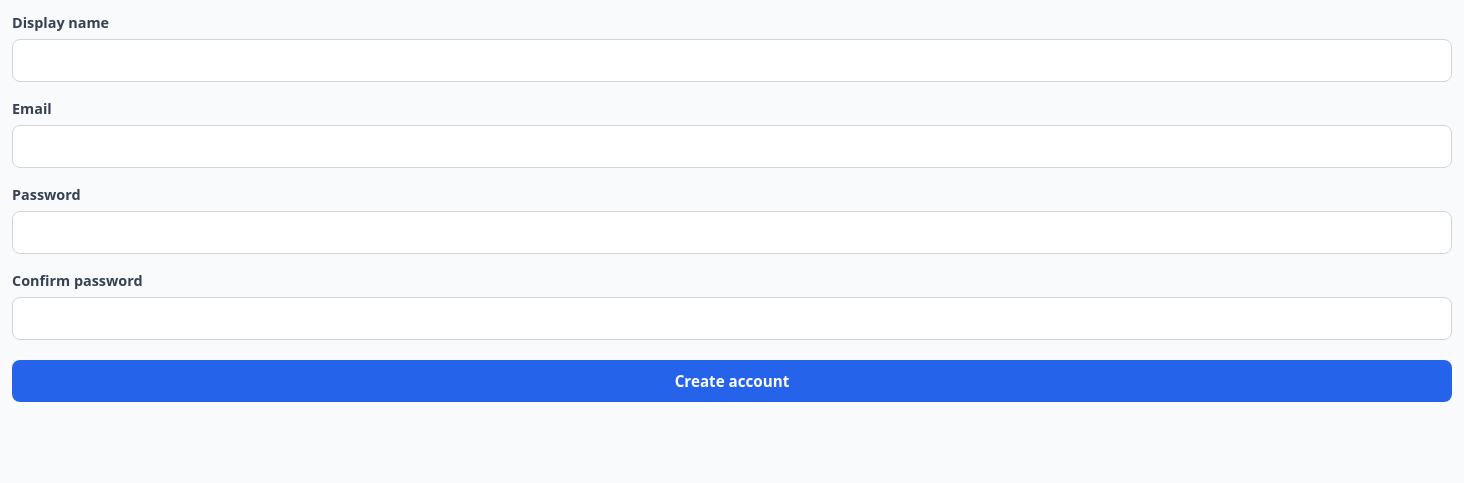
Test case: RegisterForm › renders server error alert when registration fails
Type "Maria" into the field labelled "Display name" at [732, 61], box [12,39,1452,82]
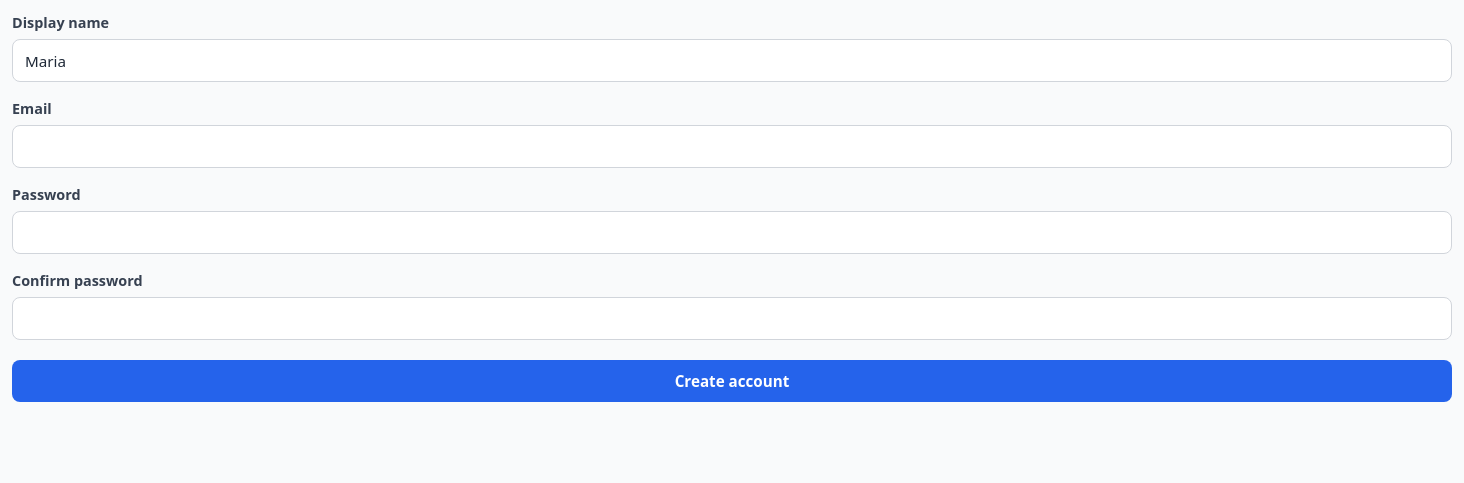
Type "maria@example.com" into the field labelled "Email" at [732, 147], box [12,125,1452,168]
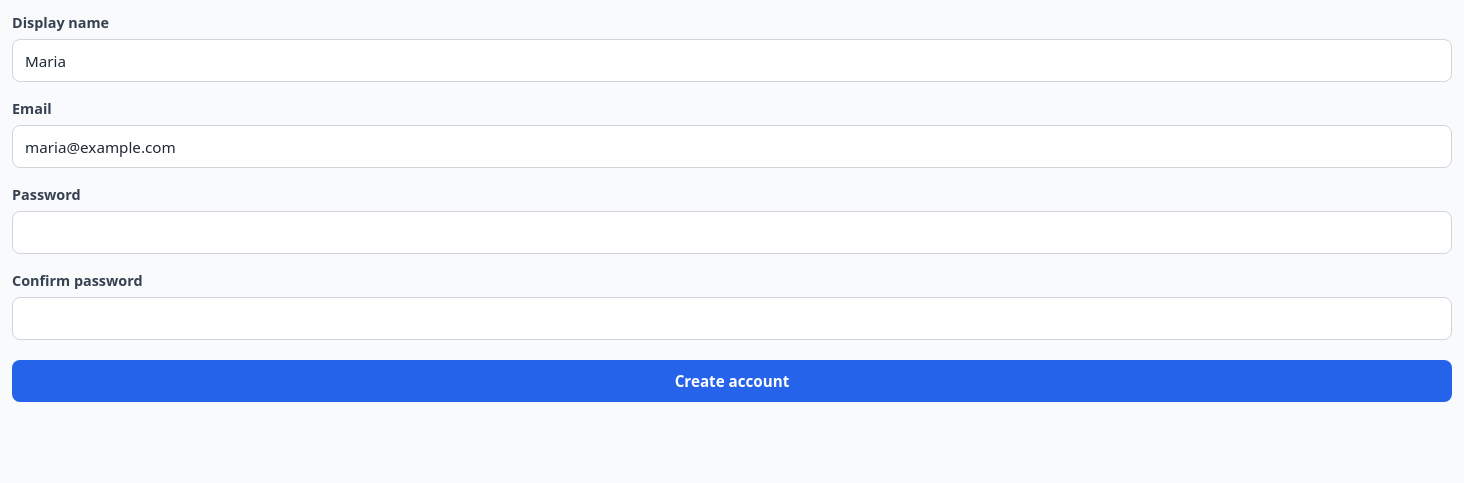
Type "password123" into the password field labelled "Password" at [732, 233], box [12,211,1452,254]
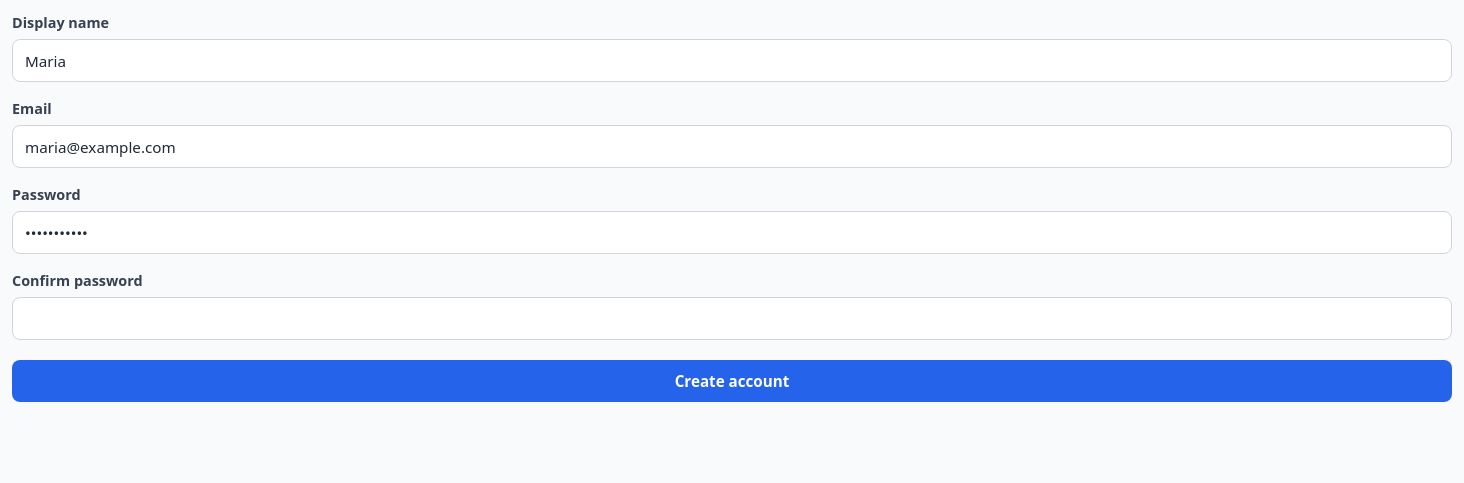
Type "password123" into the password field labelled "Confirm password" at [732, 319], box [12,297,1452,340]
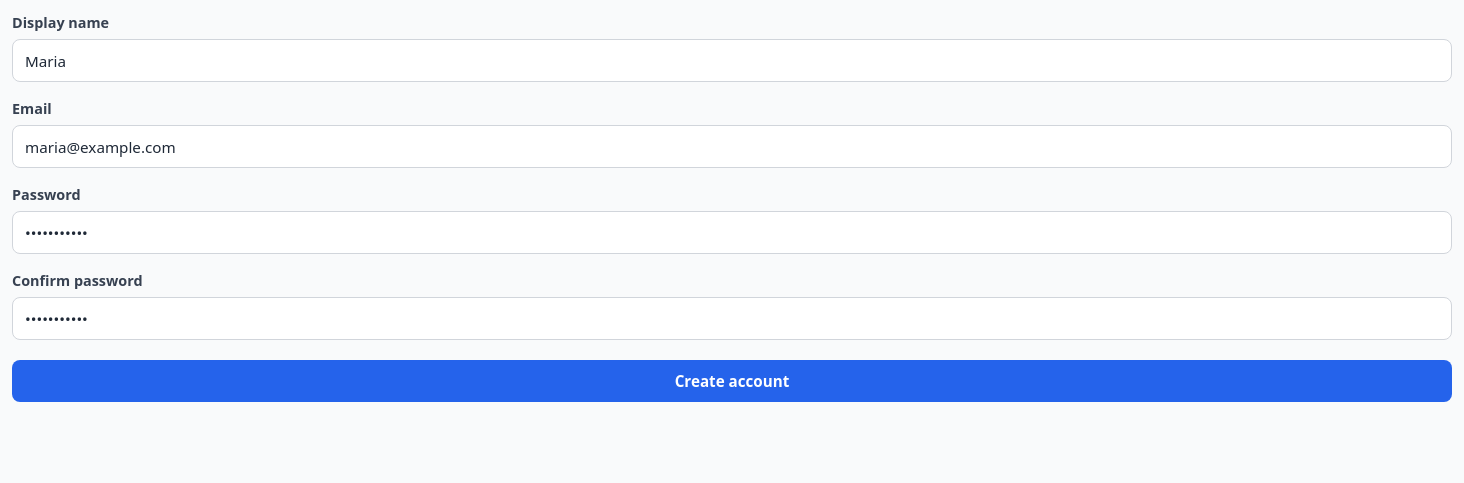
Click the button "Create account" at [732, 381], box [12,360,1452,402]
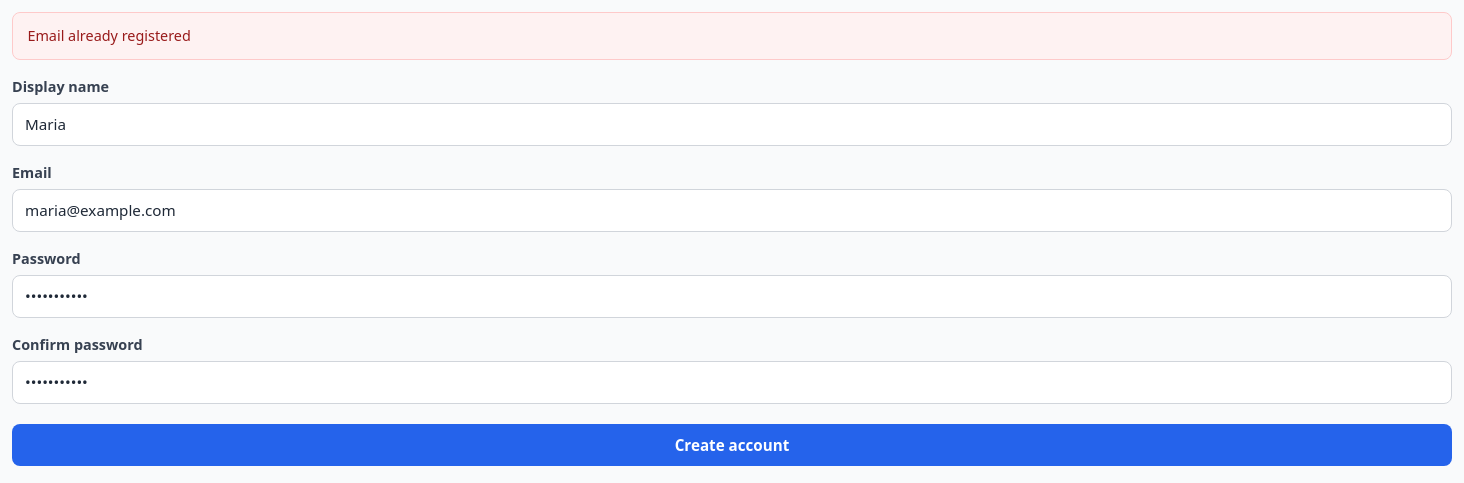
expect the message reads "Email already registered": met, box [27,26,191,45]
